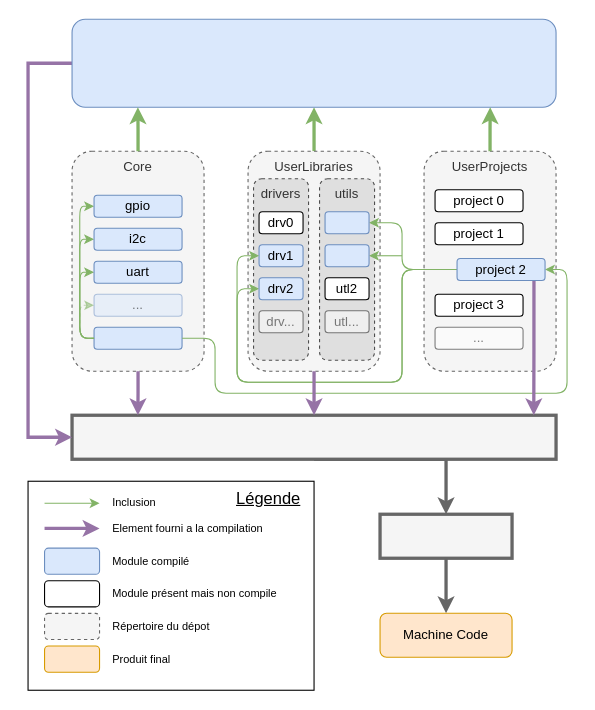
This 595x710 diagram has some shape labels left out. Each missing label, with the centre of its shape:
"CMake" goes at pixel 313 436.
"Compiler" goes at pixel 445 535.
"HAL" goes at pixel 313 62.
"main" goes at pixel 137 337.
"utl0" goes at pixel 346 222.
"utl1" goes at pixel 346 255.
